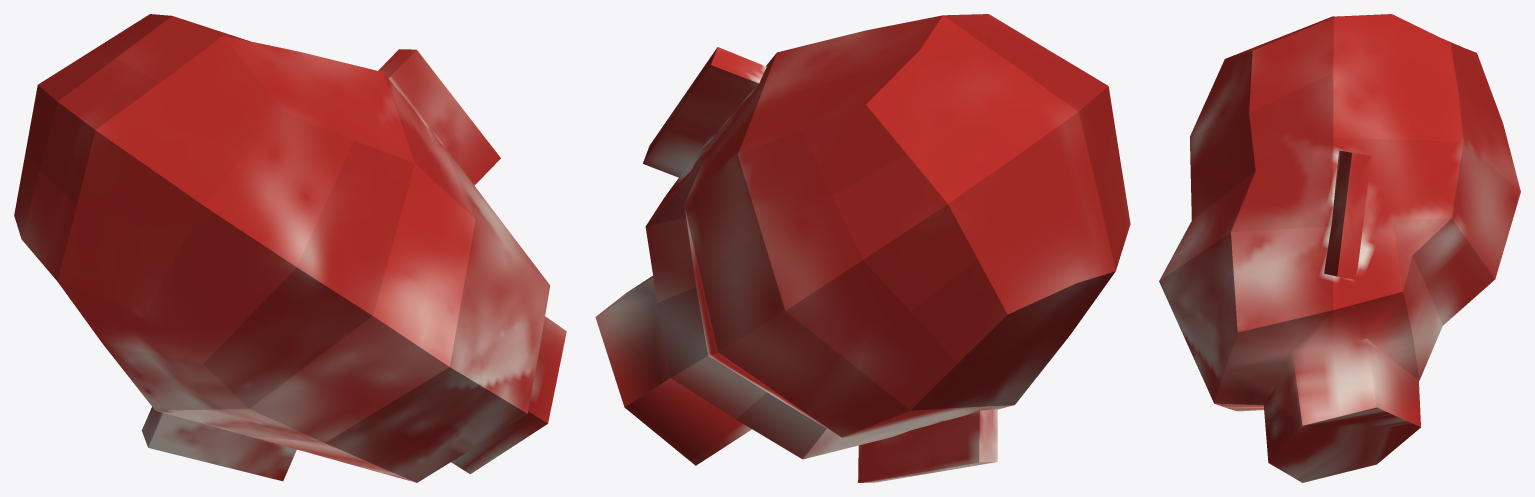
File: Cabeça.fbx
3 views of the same model, side by side, from view 1: azimuth 30°, elevation 25°; view 2: azimuth 150°, elevation 25°; view 3: azimuth 270°, elevation 25° (orthographic). The views are drawn at different scales.
Visible parts, largest first — view 1: Cube.005; view 2: Cube.005; view 3: Cube.005.
Boxes of the visible parts, x1,y1,x2,y2 form: Cube.005: (14,14,566,482); Cube.005: (595,14,1130,482); Cube.005: (1159,14,1520,482).
Size of the model in its own units: 800 by 749 by 649.
